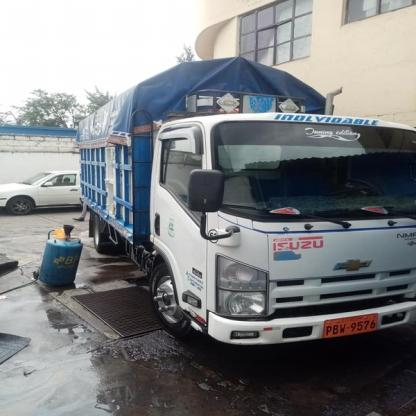Placa: (324, 310, 381, 348)
